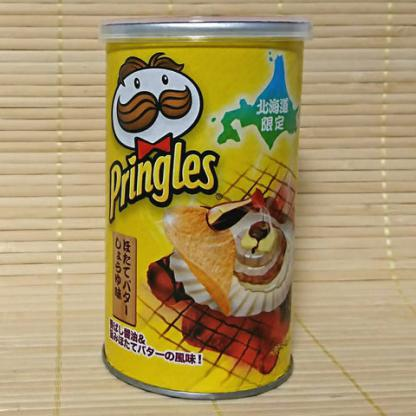potatochip: (93, 9, 317, 405)
